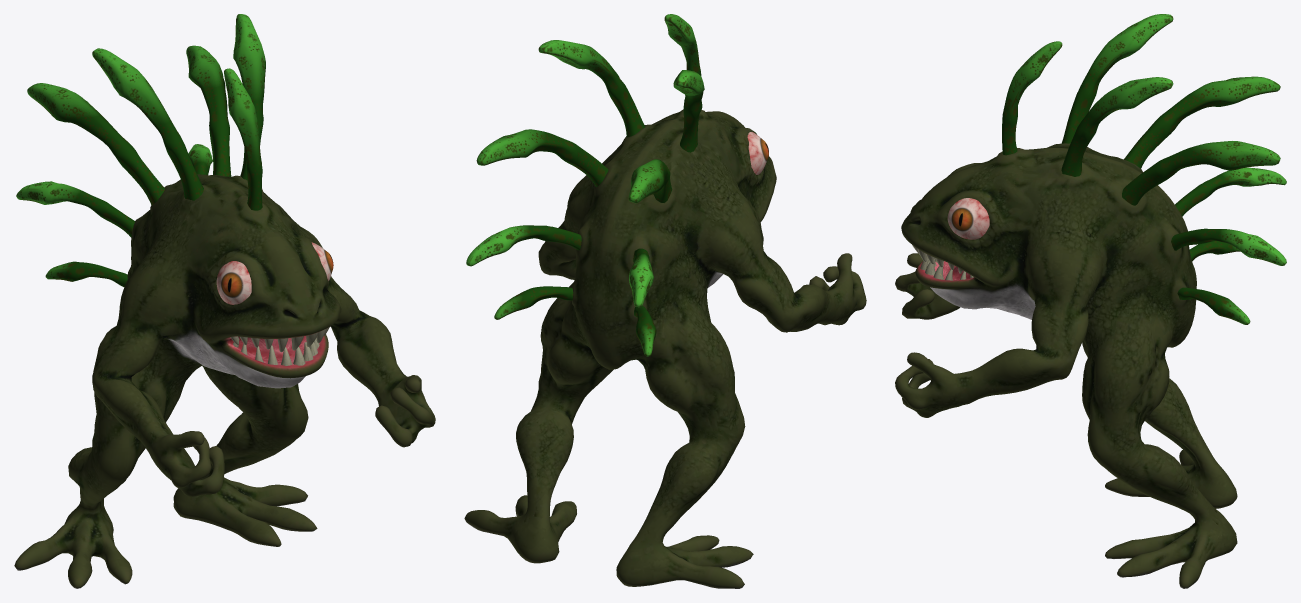
The model's file is murloc.glb.
The picture shows the model from 3 angles, left to right: view 1: azimuth 30°, elevation 25°; view 2: azimuth 150°, elevation 25°; view 3: azimuth 270°, elevation 25°; orthographic projection. The views are drawn at different scales.
Visible parts, largest first — view 1: MurlocCorpo_MurlocBody_0, Denti_PinneDenti_0, Eye_EyeExterior_0; view 2: MurlocCorpo_MurlocBody_0, Denti_PinneDenti_0, Eye_EyeExterior_0; view 3: MurlocCorpo_MurlocBody_0, Denti_PinneDenti_0, Eye_EyeExterior_0.
Boxes of the visible parts, x1,y1,x2,y2 form: MurlocCorpo_MurlocBody_0: (14,174,435,588); Denti_PinneDenti_0: (16,14,329,365); Eye_EyeExterior_0: (216,242,333,304); MurlocCorpo_MurlocBody_0: (464,109,866,588); Denti_PinneDenti_0: (466,14,704,356); Eye_EyeExterior_0: (747,132,768,174); MurlocCorpo_MurlocBody_0: (895,143,1237,588); Denti_PinneDenti_0: (912,14,1286,324); Eye_EyeExterior_0: (947,198,989,239).
Size of the model in its own units: 18.81 by 31.8 by 23.36.
4 materials, 3 textured.
